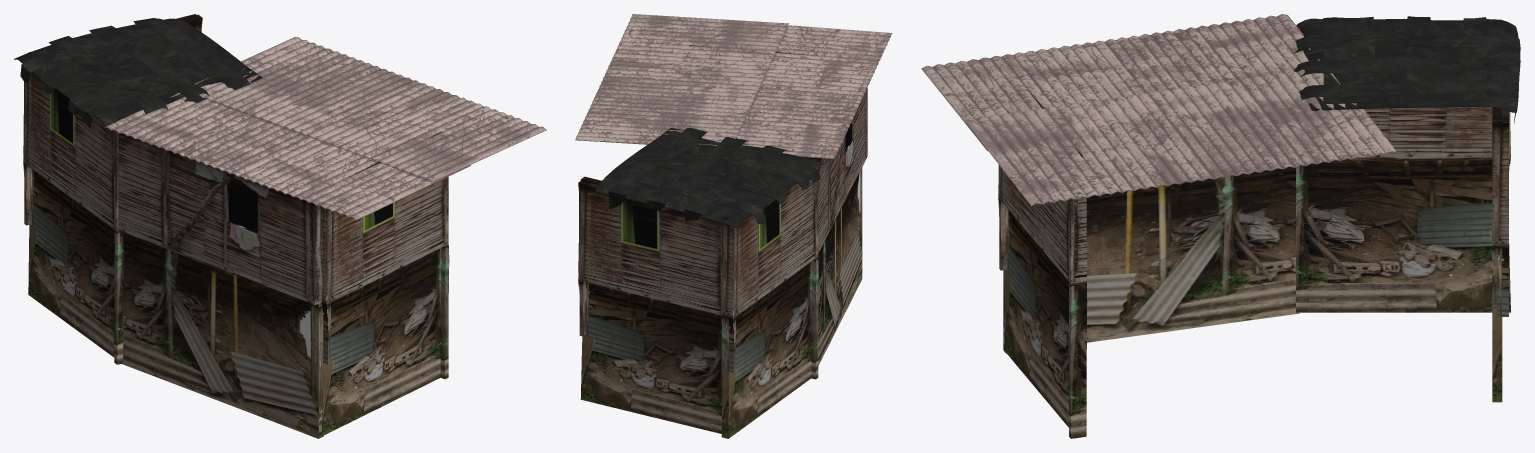
Rendered from casa_izquierda_11.fbx.
3 renders of one model, left to right at view 1: azimuth 30°, elevation 25°; view 2: azimuth 150°, elevation 25°; view 3: azimuth 270°, elevation 25°, orthographic. The views are drawn at different scales.
Visible parts, largest first — view 1: casa_izquierda_11B.001, Techo_11.001, casa_izquierda_11A.002, casa_izquierda_11A, Techo_11; view 2: Techo_11.001, casa_izquierda_11A.001, casa_izquierda_11A, Techo_11, casa_izquierda_11B.001; view 3: Techo_11.001, casa_izquierda_11A, casa_izquierda_11B.001, Techo_11, casa_izquierda_11A.002, casa_izquierda_11A.001.
Boxes of the visible parts, <box> form: casa_izquierda_11B.001: <box>118,133,323,438</box>; Techo_11.001: <box>104,37,546,220</box>; casa_izquierda_11A.002: <box>322,132,449,436</box>; casa_izquierda_11A: <box>23,50,125,364</box>; Techo_11: <box>14,18,262,128</box>; Techo_11.001: <box>575,14,892,159</box>; casa_izquierda_11A.001: <box>578,176,726,433</box>; casa_izquierda_11A: <box>721,157,818,438</box>; Techo_11: <box>595,127,824,227</box>; casa_izquierda_11B.001: <box>811,88,867,378</box>; Techo_11.001: <box>921,14,1397,206</box>; casa_izquierda_11A: <box>1296,26,1510,312</box>; casa_izquierda_11B.001: <box>1003,167,1299,353</box>; Techo_11: <box>1294,16,1520,123</box>; casa_izquierda_11A.002: <box>998,90,1087,438</box>; casa_izquierda_11A.001: <box>1492,107,1510,402</box>.
Bounding box in the file's own units: 895 × 646 × 1204.
